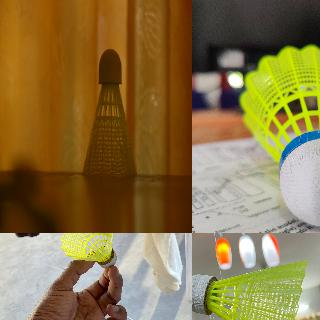shuttlecock: (239, 44, 319, 227), (192, 259, 309, 319), (83, 49, 137, 174), (60, 233, 117, 269)
